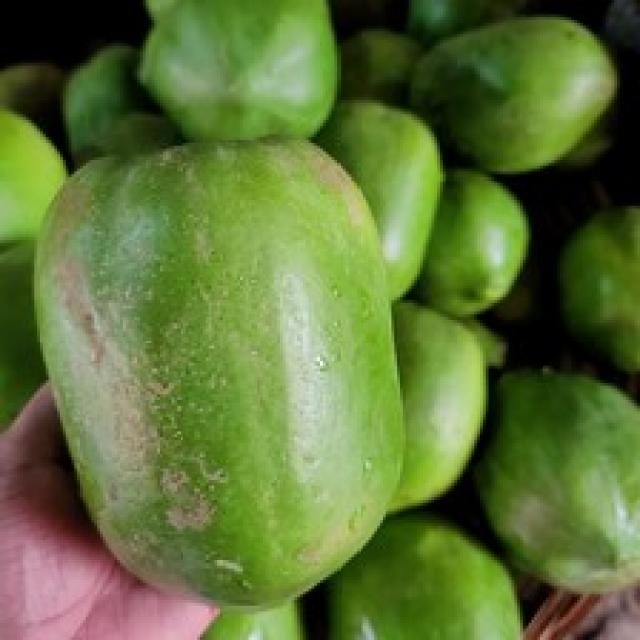Pepaya unrippen: (27, 144, 431, 613)
